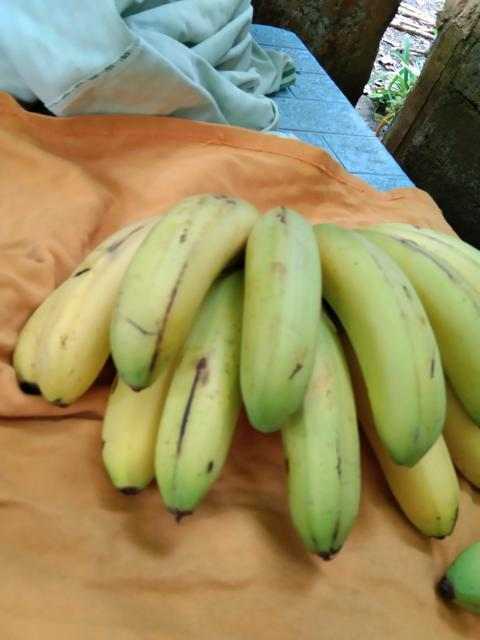ripe: (100, 180, 261, 377), (135, 321, 245, 523), (276, 365, 365, 562)
